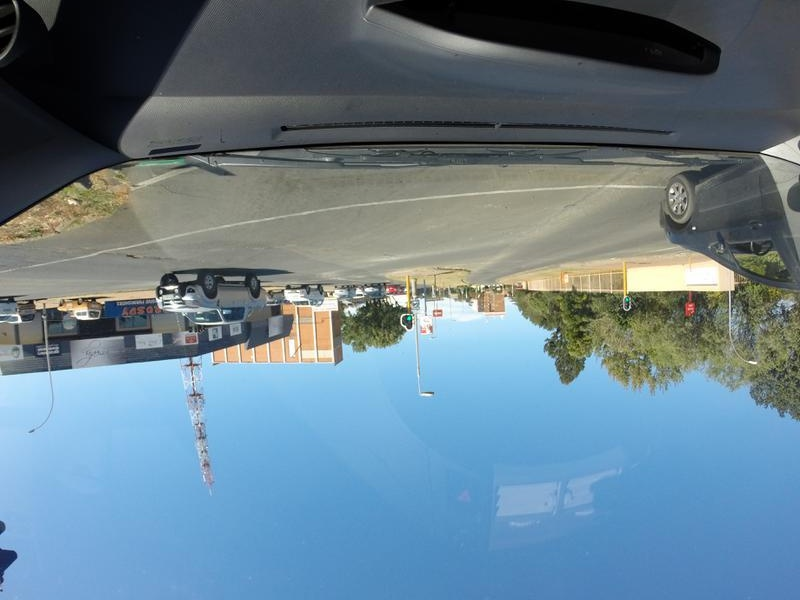pothole: (110, 252, 161, 263)
